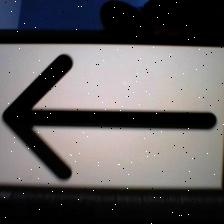left: (3, 53, 217, 182)
